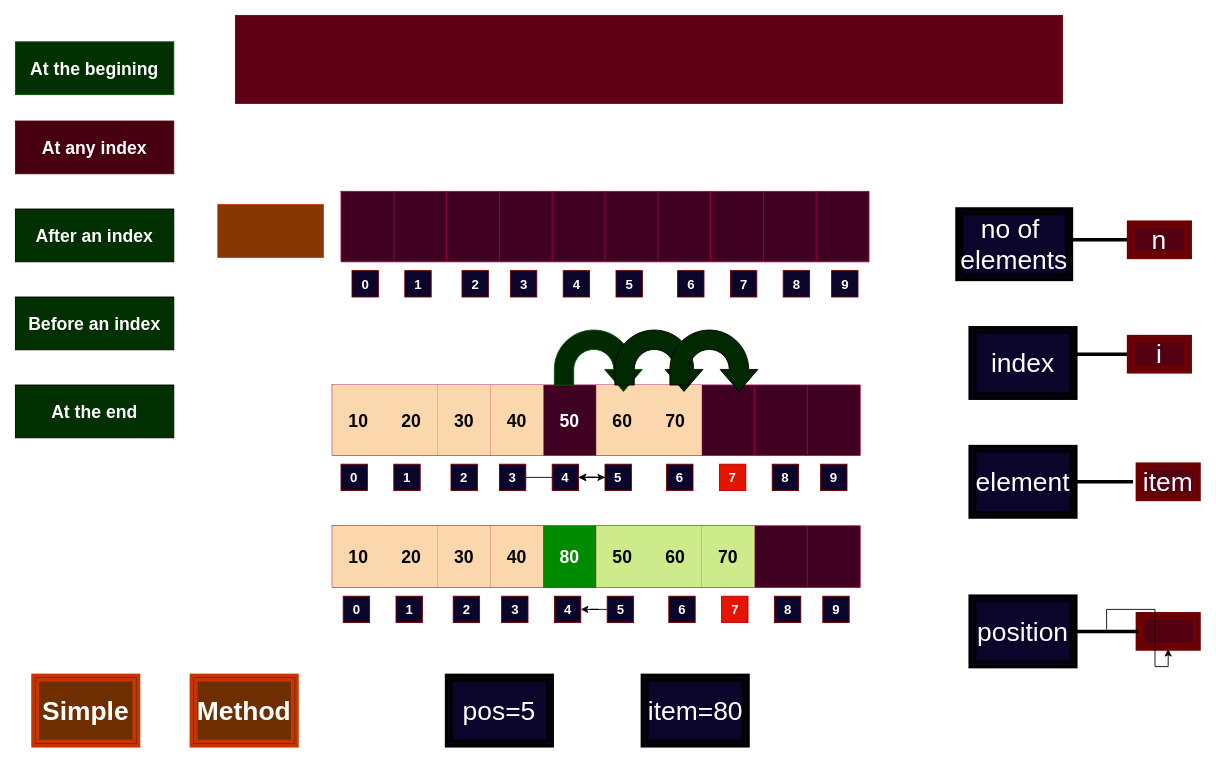
Some shapes in this 1216 by 763 pixel diagram are drawn without their labels. Here are the shapes that lost their labels. From the top down, the centre of each, then its label:
point 649,59: Data Structure and Algorithm | Array Insertion
point 270,230: arr[10]
point 1167,631: pos
